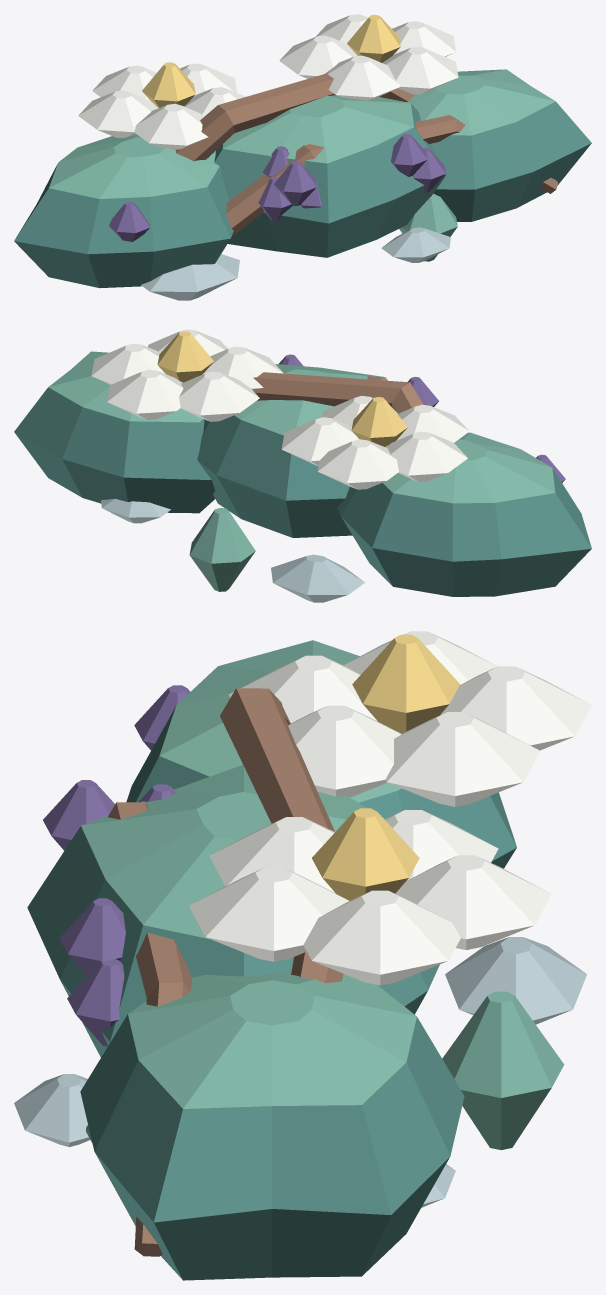
File: lagoon_shrub_trailing_blackberry_a.glb
3 renders of one model, top to bottom at view 1: azimuth 30°, elevation 25°; view 2: azimuth 150°, elevation 25°; view 3: azimuth 270°, elevation 25°, orthographic. The views are drawn at different scales.
Visible parts, largest first — view 1: lagoon_shrub_trailing_blackberry_a.001; view 2: lagoon_shrub_trailing_blackberry_a.001; view 3: lagoon_shrub_trailing_blackberry_a.001.
Boxes of the visible parts, <box> form: lagoon_shrub_trailing_blackberry_a.001: <box>14,14,591,300</box>; lagoon_shrub_trailing_blackberry_a.001: <box>14,329,591,602</box>; lagoon_shrub_trailing_blackberry_a.001: <box>14,631,591,1280</box>.
Size of the model in its own units: 3.04 by 1.08 by 1.43.
